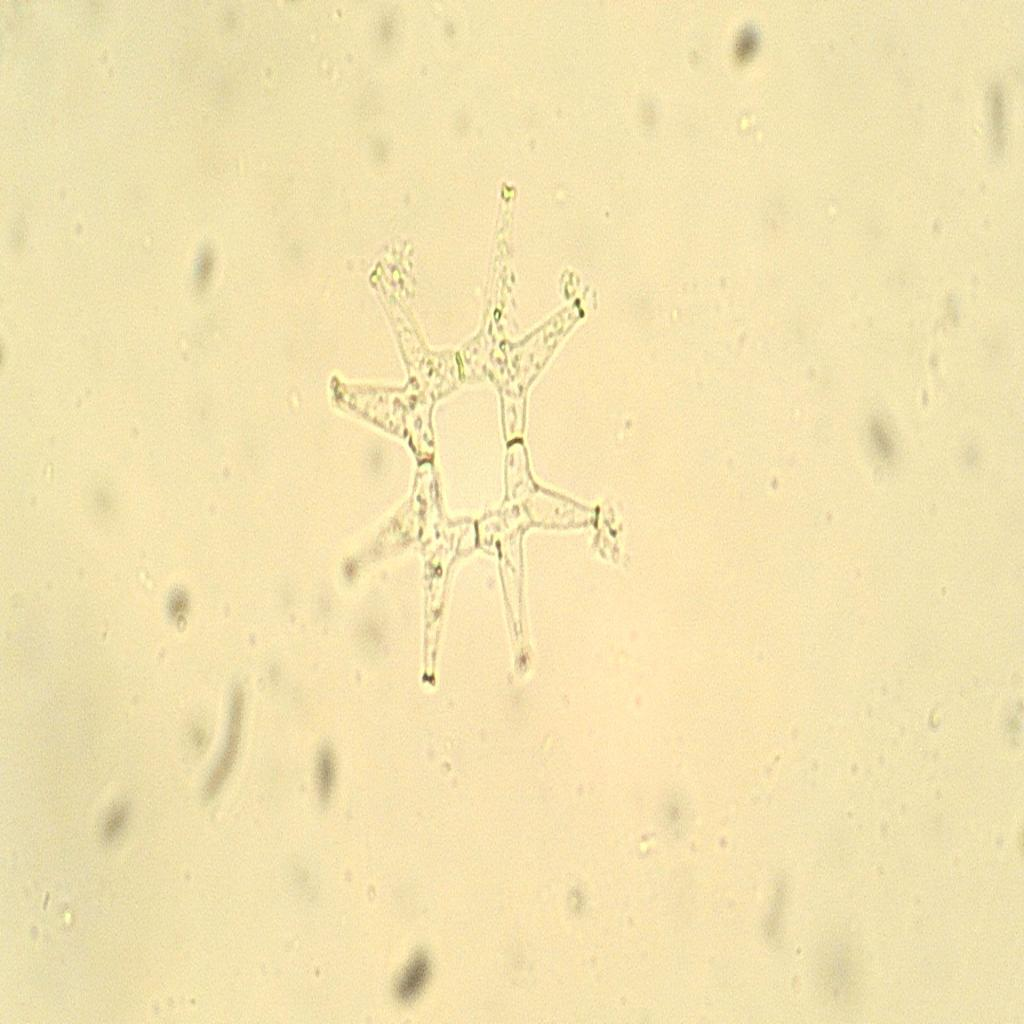Pediastrum_1F0: (299, 168, 659, 742)
